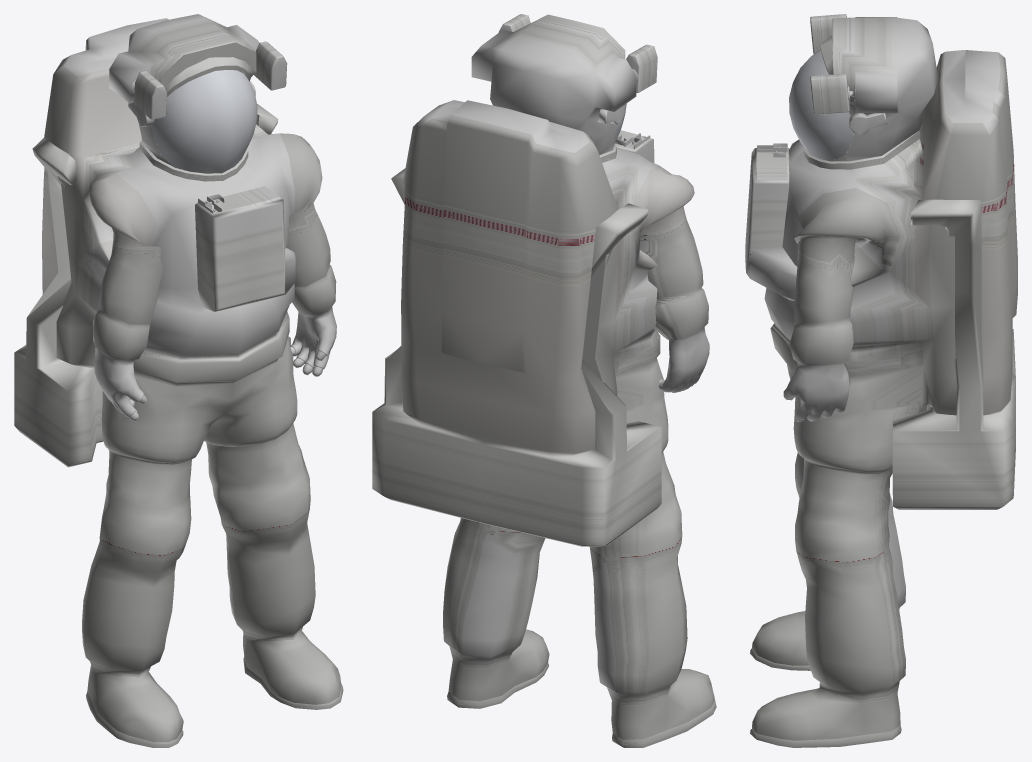
The model's file is astronaut.glb.
3 renders of one model, left to right at view 1: azimuth 30°, elevation 25°; view 2: azimuth 150°, elevation 25°; view 3: azimuth 270°, elevation 25°, orthographic. The views are drawn at different scales.
Parts seen in each view (by area): view 1: astronaut1; view 2: astronaut1; view 3: astronaut1.
Boxes of the visible parts, x1,y1,x2,y2 form: astronaut1: (14, 14, 343, 747); astronaut1: (372, 14, 716, 747); astronaut1: (745, 14, 1017, 747).
Size of the model in its own units: 27.88 by 74.26 by 27.6.
Materials: 2 (1 with a texture image).
